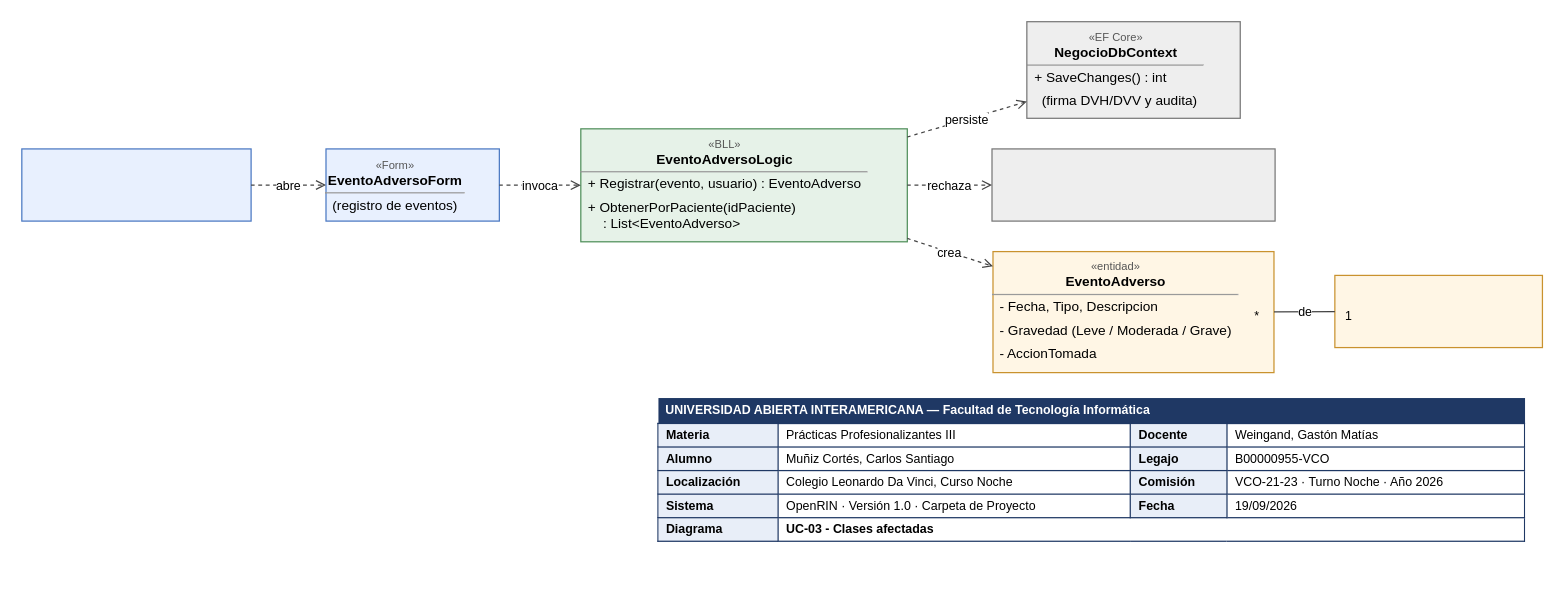
The diagram is 1565 pixels wide and 589 high, and some of its shapes have lost their labels. Each missing label, with the box of its shape:
«entidad» Paciente - NombreCompleto, Estado: (1334, 274, 1542, 348)
«static» ReglasNegocio + Rechazar(errores, contexto, usuario): (991, 148, 1275, 221)
«UserControl» EventosAdversosControl (listado; colorea por gravedad): (21, 148, 251, 221)
